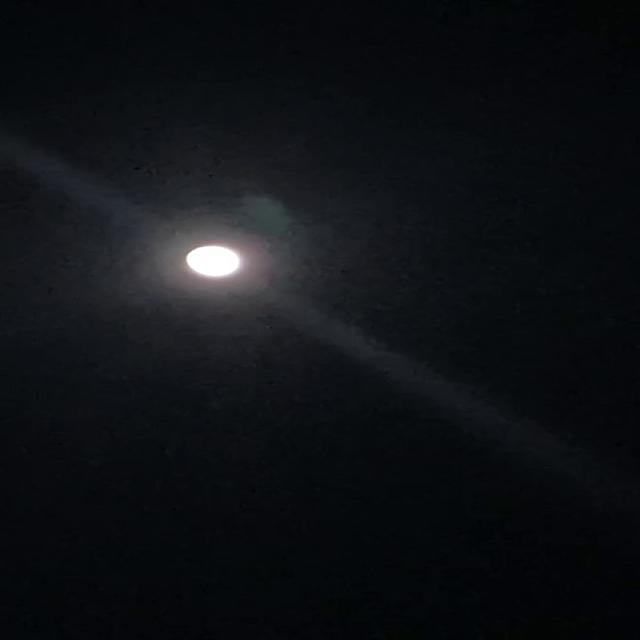moon: (172, 238, 250, 280)
